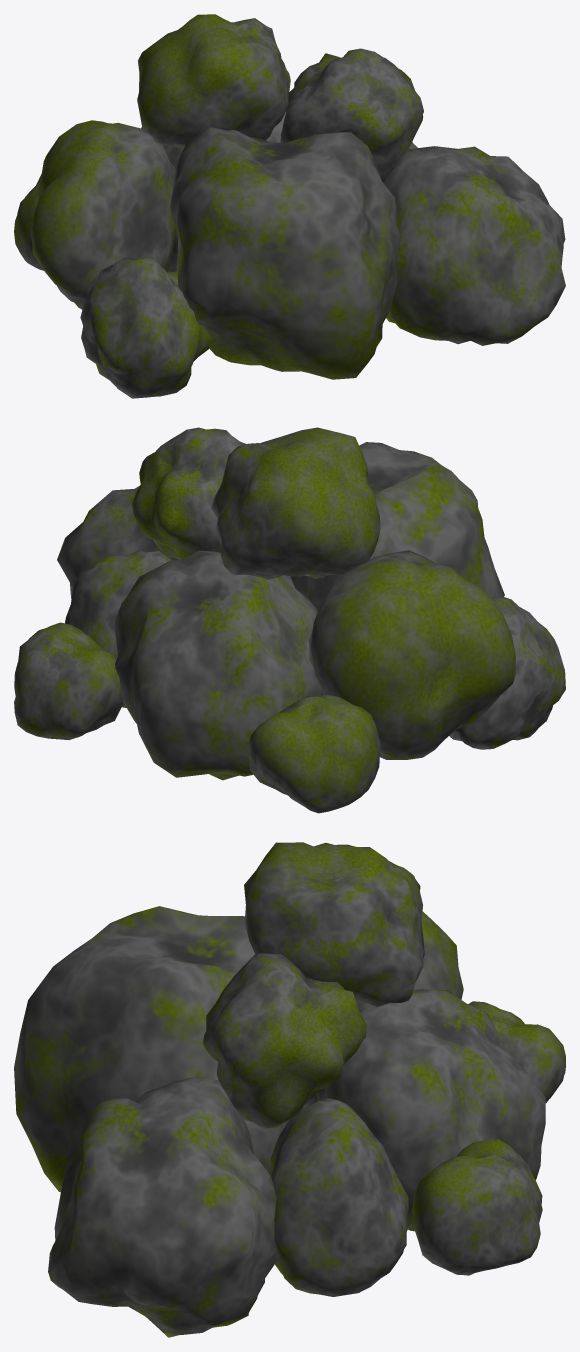
File: rock_01.glb
3 views of the same model, one above another, from view 1: azimuth 30°, elevation 25°; view 2: azimuth 150°, elevation 25°; view 3: azimuth 270°, elevation 25° (orthographic). The views are drawn at different scales.
Visible parts, largest first — view 1: Object_27; view 2: Object_27; view 3: Object_27.
Boxes of the visible parts, x1,y1,x2,y2 form: Object_27: (14, 14, 565, 398); Object_27: (14, 427, 565, 813); Object_27: (14, 842, 565, 1337).
Size of the model in its own units: 7.26 by 4.7 by 6.27.
1 material, 1 textured.
